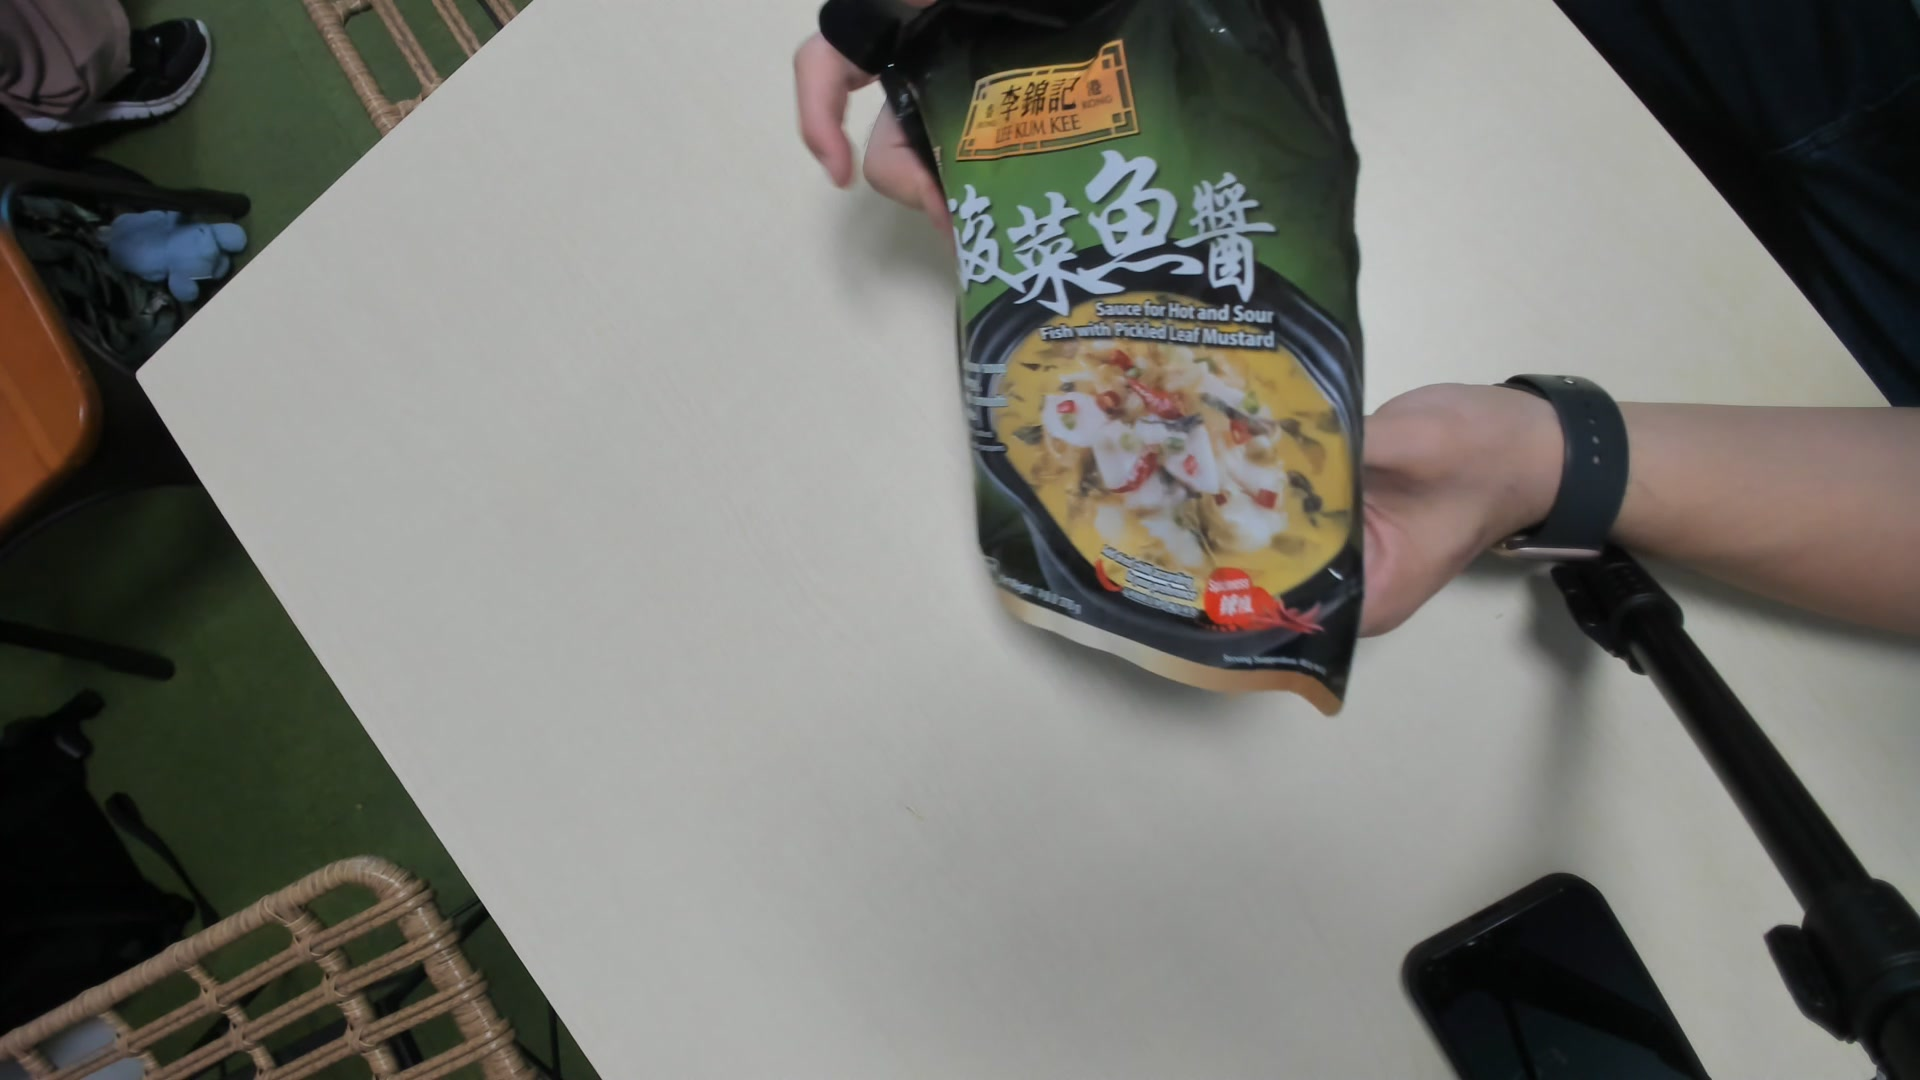OtherSauceDressing_200-299g_NonHalal_NonHealthy: (886, 1, 1373, 725)
